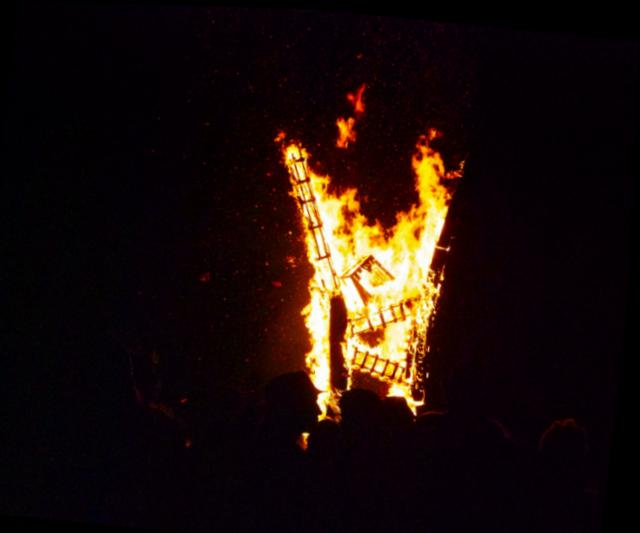fire: (240, 71, 475, 421)
